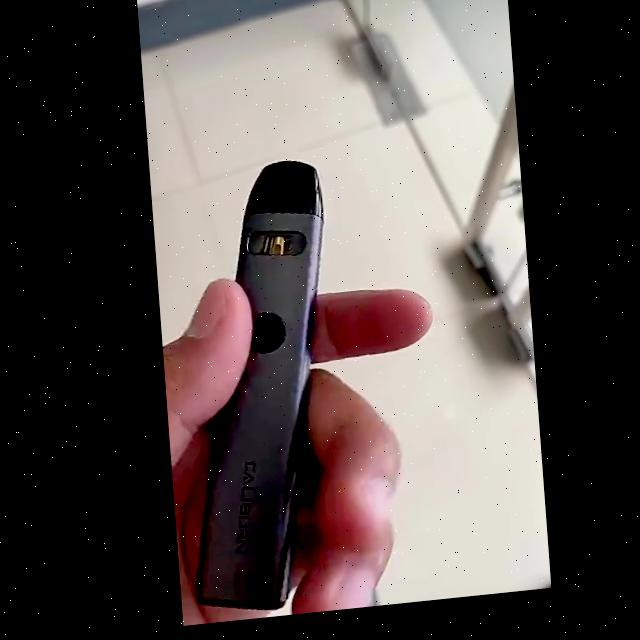vape: (158, 160, 345, 621)
